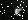person: (15, 2, 24, 16)
